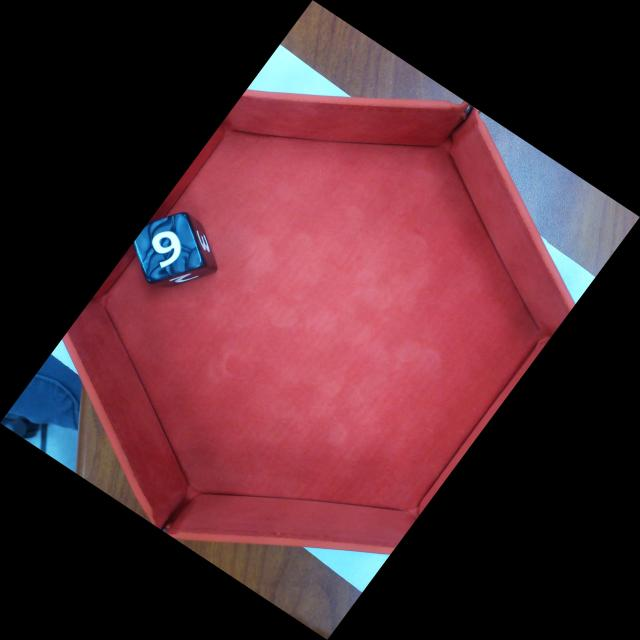dice: (126, 210, 209, 287)
